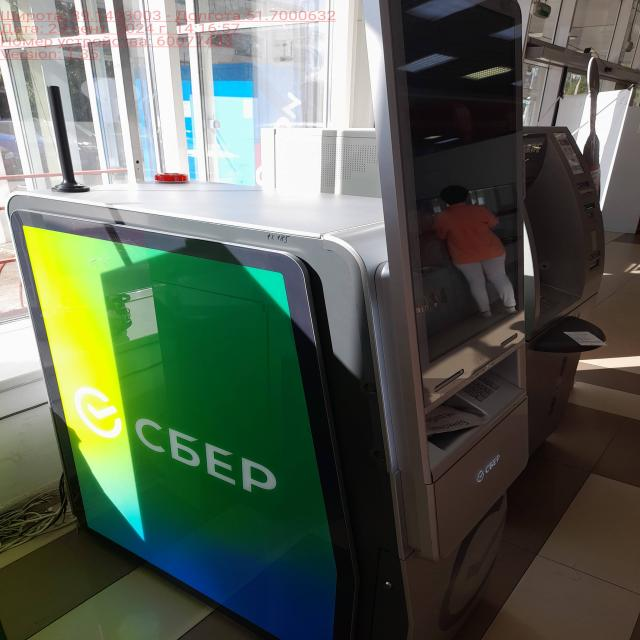bank: (36, 0, 544, 640)
